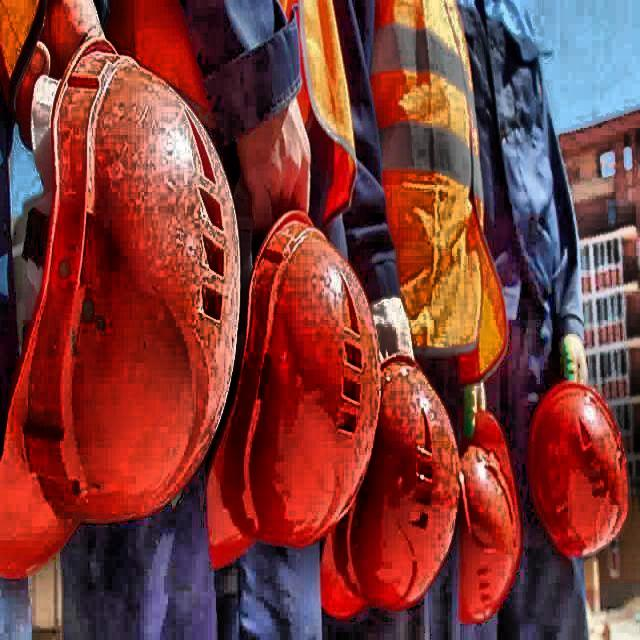safety_jacket: (370, 0, 510, 386)
